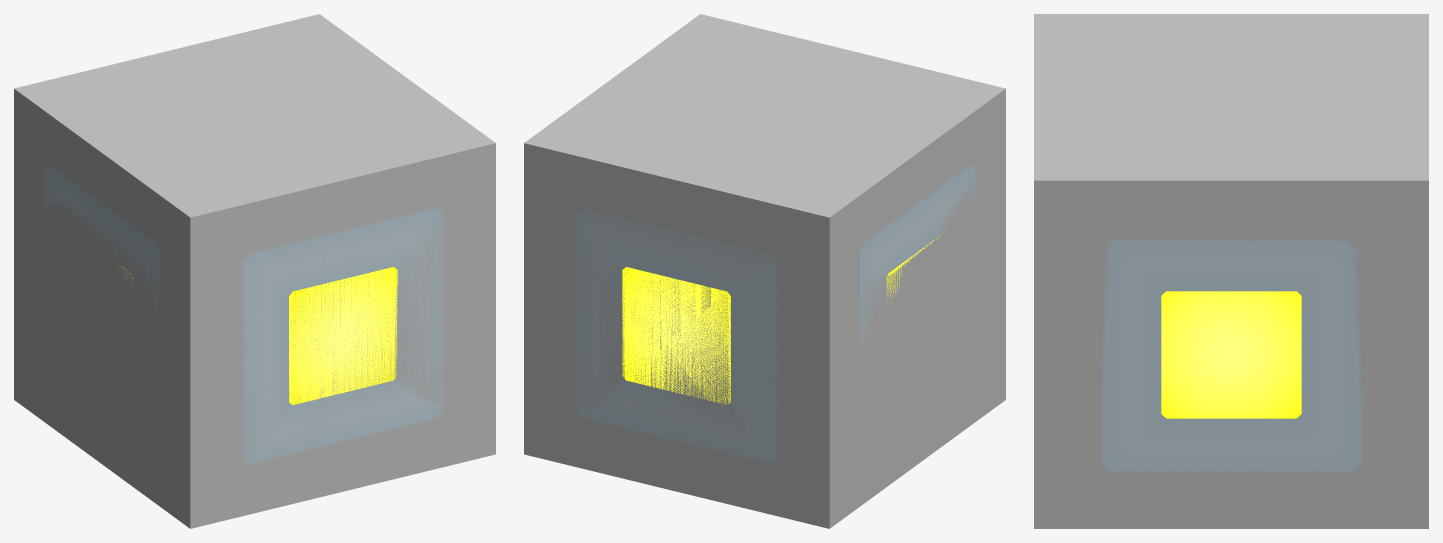
The model's file is SM_Crate_03.fbx.
The picture shows the model from 3 angles, left to right: view 1: azimuth 30°, elevation 25°; view 2: azimuth 150°, elevation 25°; view 3: azimuth 270°, elevation 25°; orthographic projection. The views are drawn at different scales.
Parts seen in each view (by area): view 1: SM_Crate_03_ConvexHulls, SM_Crate_03; view 2: SM_Crate_03_ConvexHulls, SM_Crate_03; view 3: SM_Crate_03_ConvexHulls, SM_Crate_03.
Part boxes in pixels (x1,y1,x2,y2): SM_Crate_03_ConvexHulls: (14,14,495,528); SM_Crate_03: (44,164,443,463); SM_Crate_03_ConvexHulls: (524,14,1005,528); SM_Crate_03: (576,164,975,463); SM_Crate_03_ConvexHulls: (1034,14,1428,528); SM_Crate_03: (1101,237,1361,472).
Size of the model in its own units: 114 by 114 by 111.
2 materials, 1 textured.
